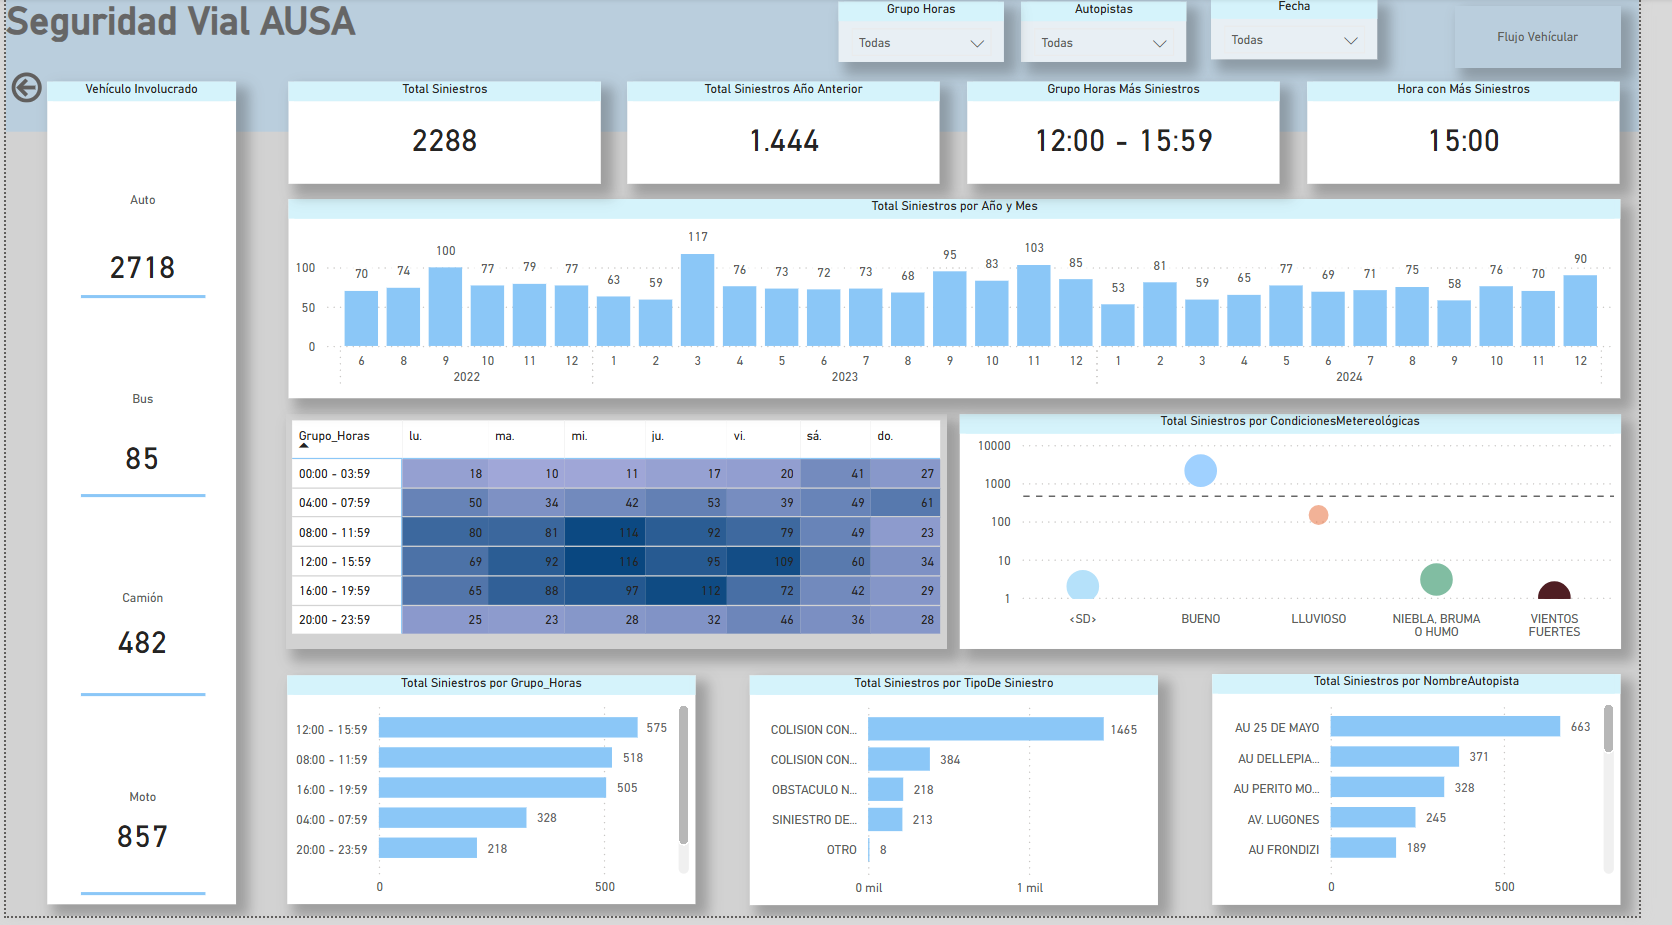

This screenshot's page, from the dashboard's own definition file:
{"tool":"powerbi","page":{"name":" Siniestros","canvas":[1280,720],"ordinal":1},"visuals":[{"type":"shape","box":[0,0,381.2,50.1],"z":1000},{"type":"slicer","title":"Autopistas","fields":{"Values":["VistaSiniestros22_23_24.NombreAutopista"]},"box":[707.3,5.9,129.7,49.1],"z":2000},{"type":"pivotTable","fields":{"Values":["Medidas.Total Siniestros"],"Columns":["Calendario.DíaCorto"],"Rows":["VistaSiniestros22_23_24.Grupo_Horas"]},"box":[219.1,326.1,518,184],"z":3000},{"type":"slicer","title":"Grupo Horas","fields":{"Values":["VistaSiniestros22_23_24.Grupo_Horas"]},"box":[559.9,5.9,129.7,49.1],"z":4000},{"type":"slicer","title":"Fecha","fields":{"Values":["Calendario.#Año","Calendario.Mes","Calendario.Día"]},"box":[857.6,5.9,130.7,49.1],"z":5000},{"type":"actionButton","box":[1135.6,5.9,130,49.1],"z":6000},{"type":"card","title":"Hora con Más Siniestros","fields":{"Values":["Medidas.Hora Más Siniestros"]},"box":[1025.6,65.8,170,80],"z":8000},{"type":"slicer","title":"Vehículo Involucrado","fields":{"Values":["VistaSiniestros22_23_24.Vehículo Involucrado"]},"box":[32.2,65.4,147.8,644.8],"z":9000},{"type":"barChart","fields":{"Category":["VistaSiniestros22_23_24.TipoDe Siniestro"],"Y":["Medidas.Total Siniestros"]},"box":[583,530.9,320,180],"z":10000},{"type":"scatterChart","fields":{"Y":["Medidas.Total Siniestros"],"X":["VistaSiniestros22_23_24.CondicionesMetereológicas"]},"box":[747.7,326.3,518,184],"z":11000},{"type":"card","title":"Total Siniestros Año Anterior","fields":{"Values":["Medidas.Total Siniestros Anterior"]},"box":[519.3,65.8,170,80],"z":12000},{"type":"lineStackedColumnComboChart","title":"Total Siniestros por Año y Mes","fields":{"Category":["Calendario.#Año","Calendario.#Mes"],"Y":["Medidas.Total Siniestros"]},"box":[221,158.2,1044.2,156.2],"z":13000},{"type":"card","title":"Total Siniestros","fields":{"Values":["VistaSiniestros.Total Siniestros"]},"box":[266.2,65.8,170,80],"z":14000},{"type":"barChart","fields":{"Category":["VistaSiniestros22_23_24.AUTOPISTA"],"Y":["Medidas.Total Siniestros"]},"box":[945.2,530.3,320,180.6],"z":15000},{"type":"barChart","fields":{"Y":["Medidas.Total Siniestros"],"Category":["VistaSiniestros22_23_24.Grupo_Horas"]},"box":[220.7,531.4,320,179.5],"z":16000},{"type":"card","title":"Grupo Horas Más Siniestros","fields":{"Values":["Medidas.Grupo Más Siniestros"]},"box":[772.5,65.8,170,80],"z":17000},{"type":"card","fields":{"Values":["Medidas.Total Siniestros Camiones"]},"box":[56.4,489.9,100.3,28.7],"z":18000},{"type":"card","fields":{"Values":["Medidas.Total Siniestros Buses"]},"box":[56.4,345.7,100.3,28.7],"z":19000},{"type":"card","fields":{"Values":["Medidas.Total Siniestros Autos"]},"box":[56.4,196.1,100.3,28.7],"z":20000},{"type":"card","fields":{"Values":["Medidas.Total Siniestros Motos"]},"box":[56.4,642.1,100.3,28.7],"z":21000},{"type":"actionButton","box":[997.1,5.9,129.7,49.1],"z":22000},{"type":"actionButton","box":[0,0,32.4,40.3],"z":23000}]}

Visuals, with their boxes in screenshot pixels (x1, y1, x2, y2), scaled from the page's 1280x720 canvas onto the 1672x925 screenshot:
shape: BBox(0, 0, 498, 64)
"Autopistas" slicer: BBox(924, 8, 1093, 71)
pivotTable - Medidas.Total Siniestros x Calendario.DíaCorto: BBox(286, 419, 963, 655)
"Grupo Horas" slicer: BBox(731, 8, 901, 71)
"Fecha" slicer: BBox(1120, 8, 1291, 71)
actionButton: BBox(1483, 8, 1653, 71)
"Hora con Más Siniestros" card: BBox(1340, 85, 1562, 187)
"Vehículo Involucrado" slicer: BBox(42, 84, 235, 912)
barChart - VistaSiniestros22_23_24.TipoDe Siniestro x Medidas.Total Siniestros: BBox(762, 682, 1180, 913)
scatterChart - Medidas.Total Siniestros x VistaSiniestros22_23_24.CondicionesMetereológicas: BBox(977, 419, 1653, 656)
"Total Siniestros Año Anterior" card: BBox(678, 85, 900, 187)
"Total Siniestros por Año y Mes" lineStackedColumnComboChart: BBox(289, 203, 1653, 404)
"Total Siniestros" card: BBox(348, 85, 570, 187)
barChart - VistaSiniestros22_23_24.AUTOPISTA x Medidas.Total Siniestros: BBox(1235, 681, 1653, 913)
barChart - Medidas.Total Siniestros x VistaSiniestros22_23_24.Grupo_Horas: BBox(288, 683, 706, 913)
"Grupo Horas Más Siniestros" card: BBox(1009, 85, 1231, 187)
card - Medidas.Total Siniestros Camiones: BBox(74, 629, 205, 666)
card - Medidas.Total Siniestros Buses: BBox(74, 444, 205, 481)
card - Medidas.Total Siniestros Autos: BBox(74, 252, 205, 289)
card - Medidas.Total Siniestros Motos: BBox(74, 825, 205, 862)
actionButton: BBox(1302, 8, 1472, 71)
actionButton: BBox(0, 0, 42, 52)
